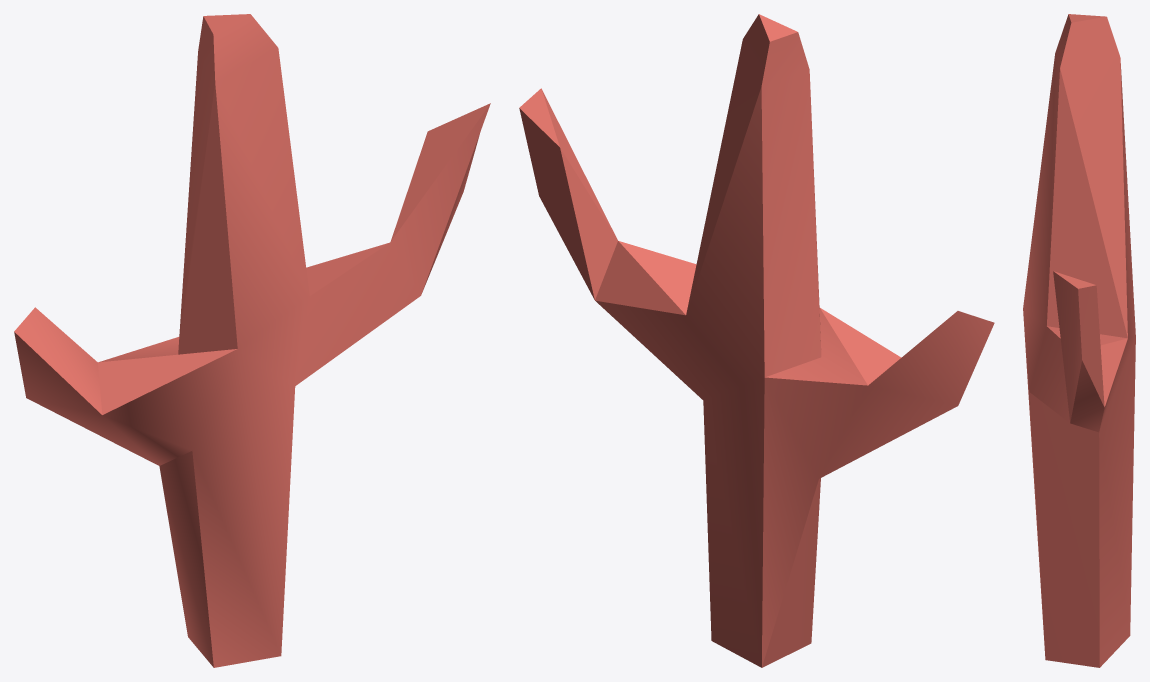
File: Cactus_01.glb
The picture shows the model from 3 angles, left to right: view 1: azimuth 30°, elevation 25°; view 2: azimuth 150°, elevation 25°; view 3: azimuth 270°, elevation 25°; orthographic projection.
Parts seen in each view (by area): view 1: Cactus_01; view 2: Cactus_01; view 3: Cactus_01.
Part boxes in pixels (<box>): Cactus_01: <box>14,14,490,667</box>; Cactus_01: <box>519,14,994,667</box>; Cactus_01: <box>1023,14,1135,667</box>.
Size of the model in its own units: 161 by 204 by 33.18.
